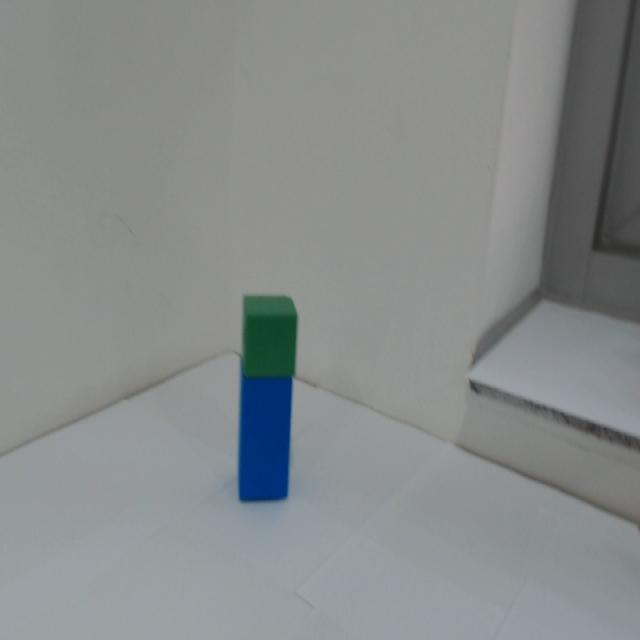cube: (231, 288, 306, 379)
